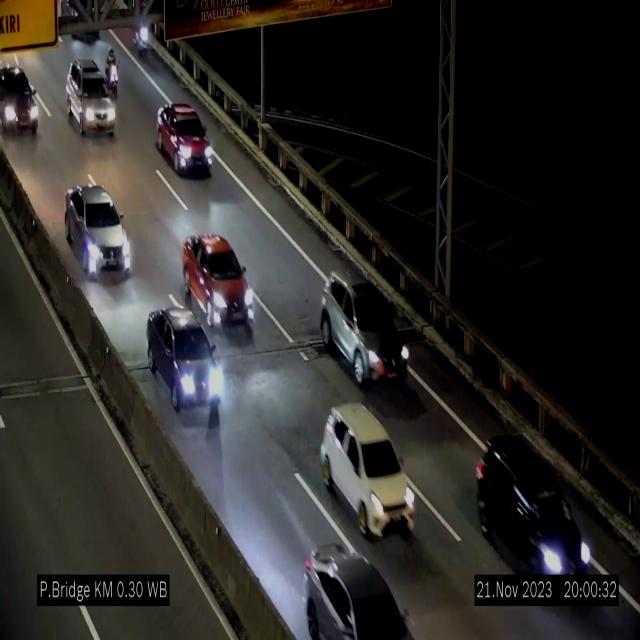Car: (476, 434, 590, 574), (293, 526, 419, 640), (321, 402, 415, 536), (320, 275, 409, 385), (181, 229, 257, 338), (147, 308, 224, 410), (65, 184, 131, 274), (157, 102, 213, 174), (70, 60, 116, 146), (0, 64, 42, 136)
Motorcycle: (134, 12, 152, 66), (104, 44, 120, 96)
